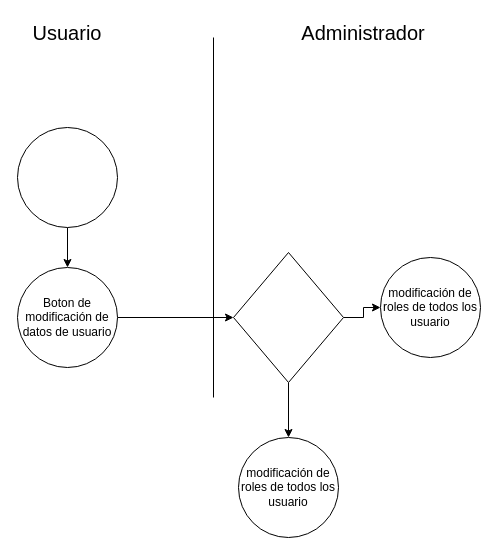
Image size: 498x555. Some labels were removed from this diagram. The shapes that lost their labels are listed below. From the top down, each one's box as (x1, y1, x2, y2) in pixels, then its label:
(16, 126, 118, 228): Modificación de preguntas y respuestas de seguridad
(232, 252, 344, 382): si usuario tiene rol de administrador
